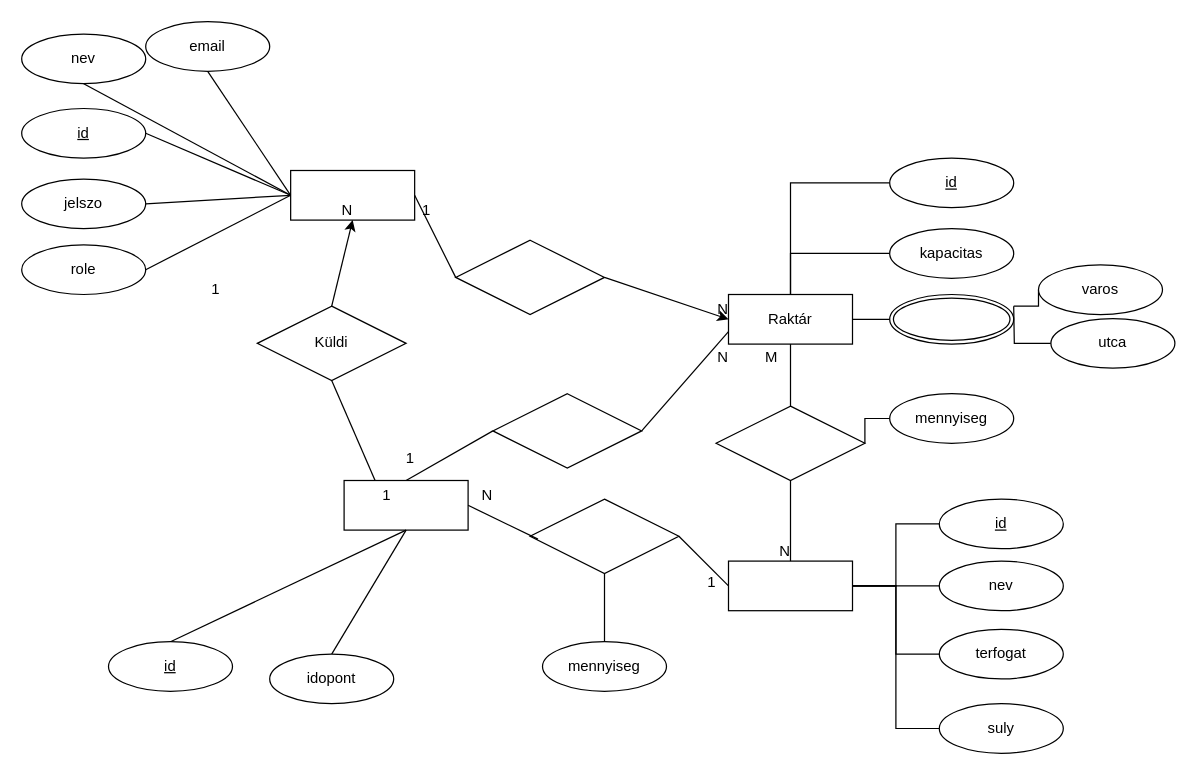
Image size: 1197x775. Some labels were removed from this diagram. The shapes that lost their labels are listed below. From the top down, each one's centre as x and y in pixels, then its label:
the point at 352,194: Felhasználó
the point at 529,277: Dolgoznak
the point at 951,318: cim
the point at 567,430: Erkezik
the point at 790,442: Tartalmazza
the point at 405,504: Szallitmany
the point at 604,536: Tartalmaz
the point at 789,585: Áruk
